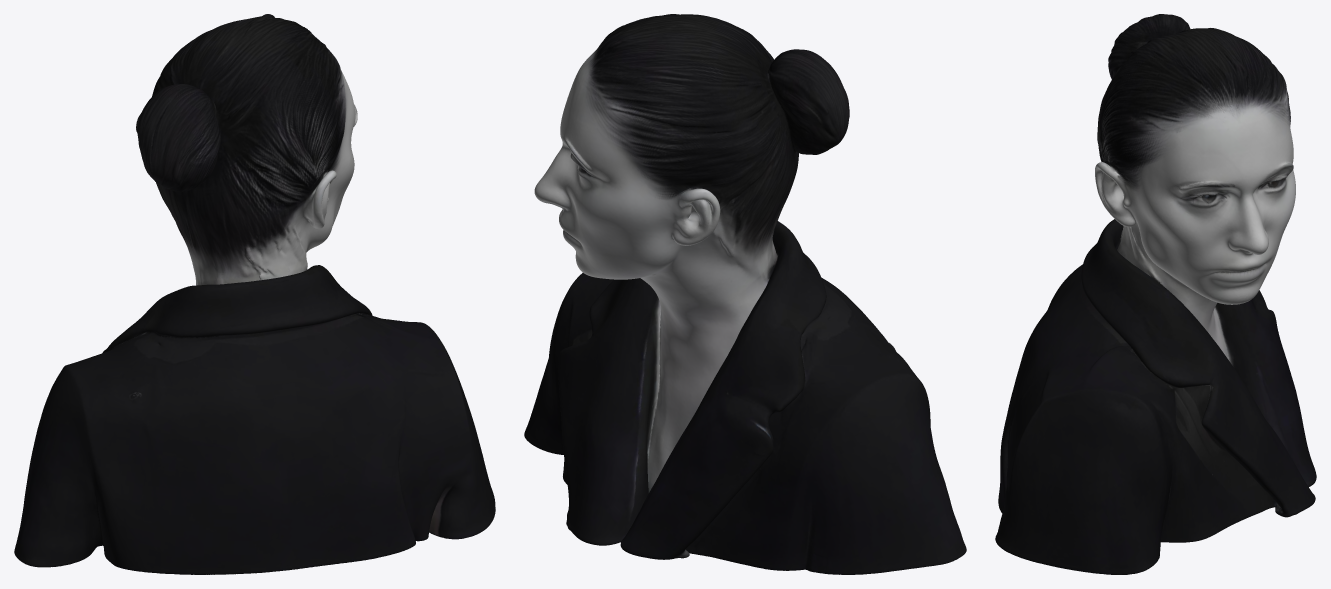
The model's file is 04-portrait.glb.
3 renders of one model, left to right at view 1: azimuth 30°, elevation 25°; view 2: azimuth 150°, elevation 25°; view 3: azimuth 270°, elevation 25°, orthographic. The views are drawn at different scales.
Visible parts, largest first — view 1: tripo_node_962ba5a3-3a17-4061-b0de-733138beeed0; view 2: tripo_node_962ba5a3-3a17-4061-b0de-733138beeed0; view 3: tripo_node_962ba5a3-3a17-4061-b0de-733138beeed0.
Boxes of the visible parts, box(x1,y1,x2,y2) form: tripo_node_962ba5a3-3a17-4061-b0de-733138beeed0: box(14, 14, 495, 574); tripo_node_962ba5a3-3a17-4061-b0de-733138beeed0: box(524, 14, 966, 574); tripo_node_962ba5a3-3a17-4061-b0de-733138beeed0: box(995, 14, 1316, 574).
Size of the model in its own units: 0.9891 by 1 by 0.6479.
Materials: 1 (1 with a texture image).
